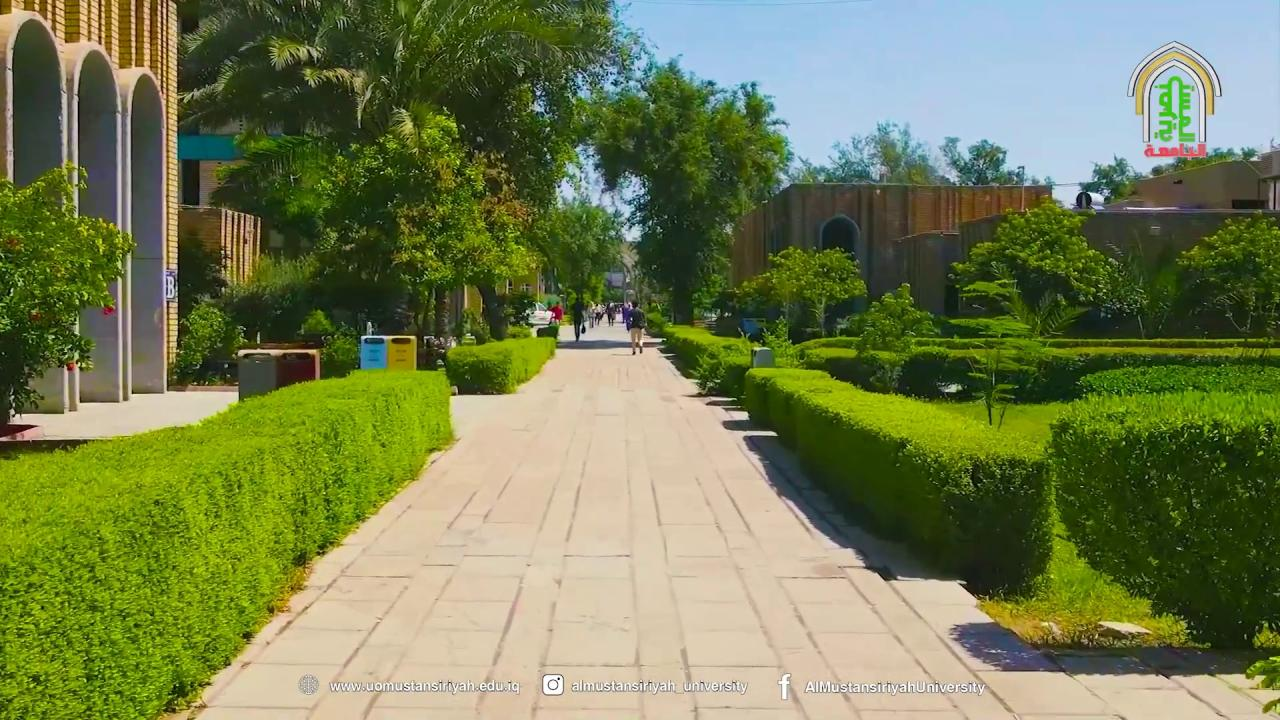fountain: (1071, 188, 1096, 211)
person: (626, 300, 646, 354), (572, 297, 586, 341), (552, 300, 564, 324)
tree: (672, 184, 1280, 650), (176, 0, 623, 356), (305, 100, 534, 361), (574, 59, 790, 326), (0, 158, 135, 435), (947, 194, 1144, 338), (459, 153, 539, 340), (1175, 212, 1279, 350), (738, 244, 868, 343), (529, 199, 624, 328), (955, 264, 1091, 339), (825, 119, 934, 184), (847, 281, 938, 355), (171, 300, 244, 386), (963, 339, 1019, 427), (938, 135, 1018, 185), (1079, 153, 1144, 205)
